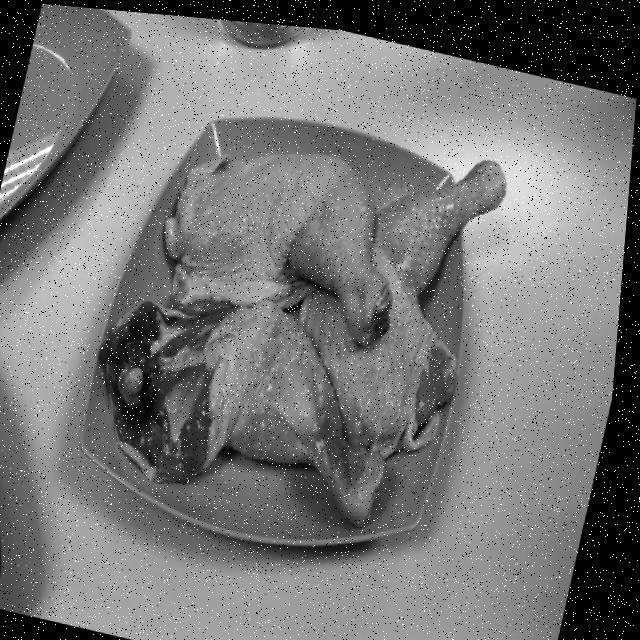quater: (302, 163, 537, 445), (109, 318, 388, 542), (178, 134, 388, 316)
